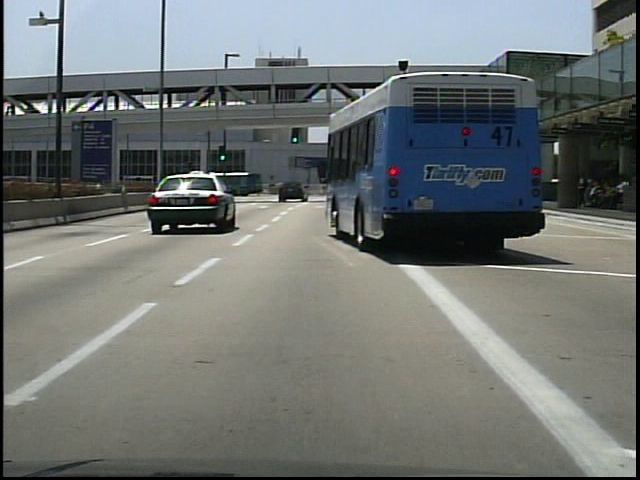person: (576, 168, 590, 209)
